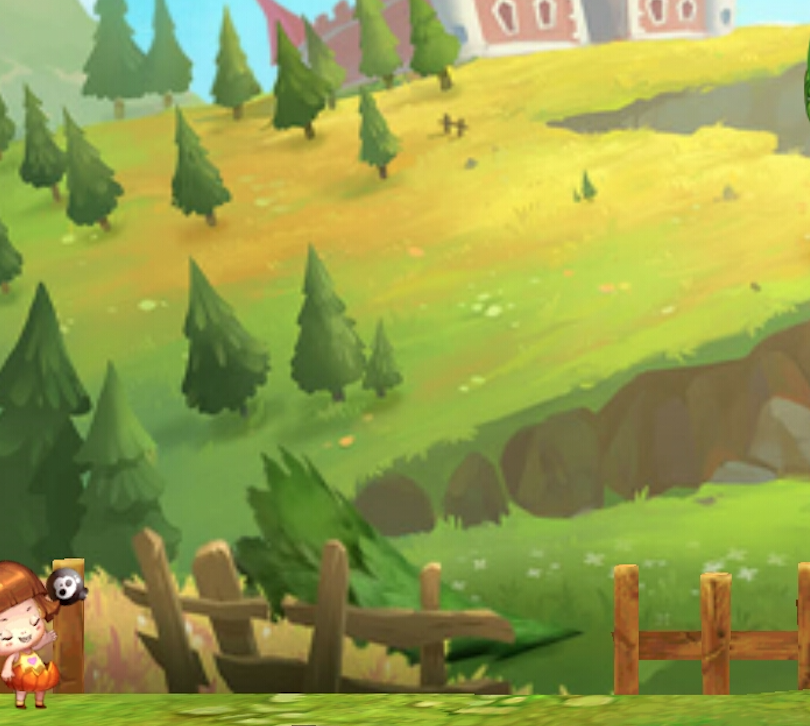ImgView: (1, 1, 809, 725)
